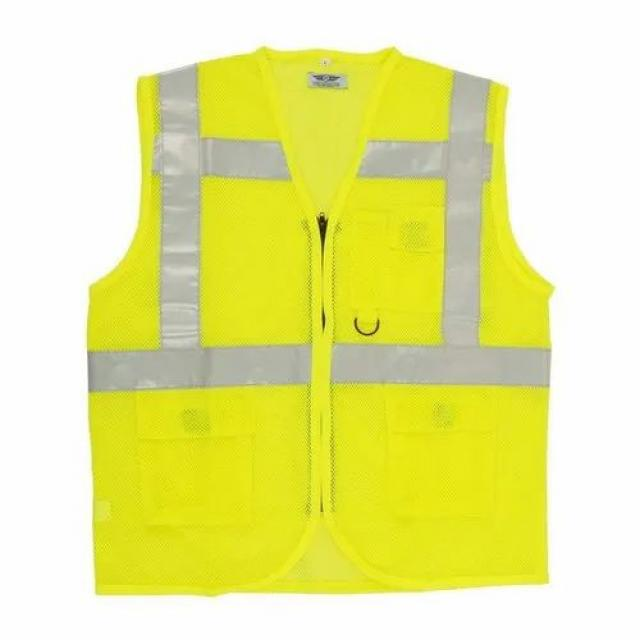Reflective-Jacket: (50, 26, 603, 609)
